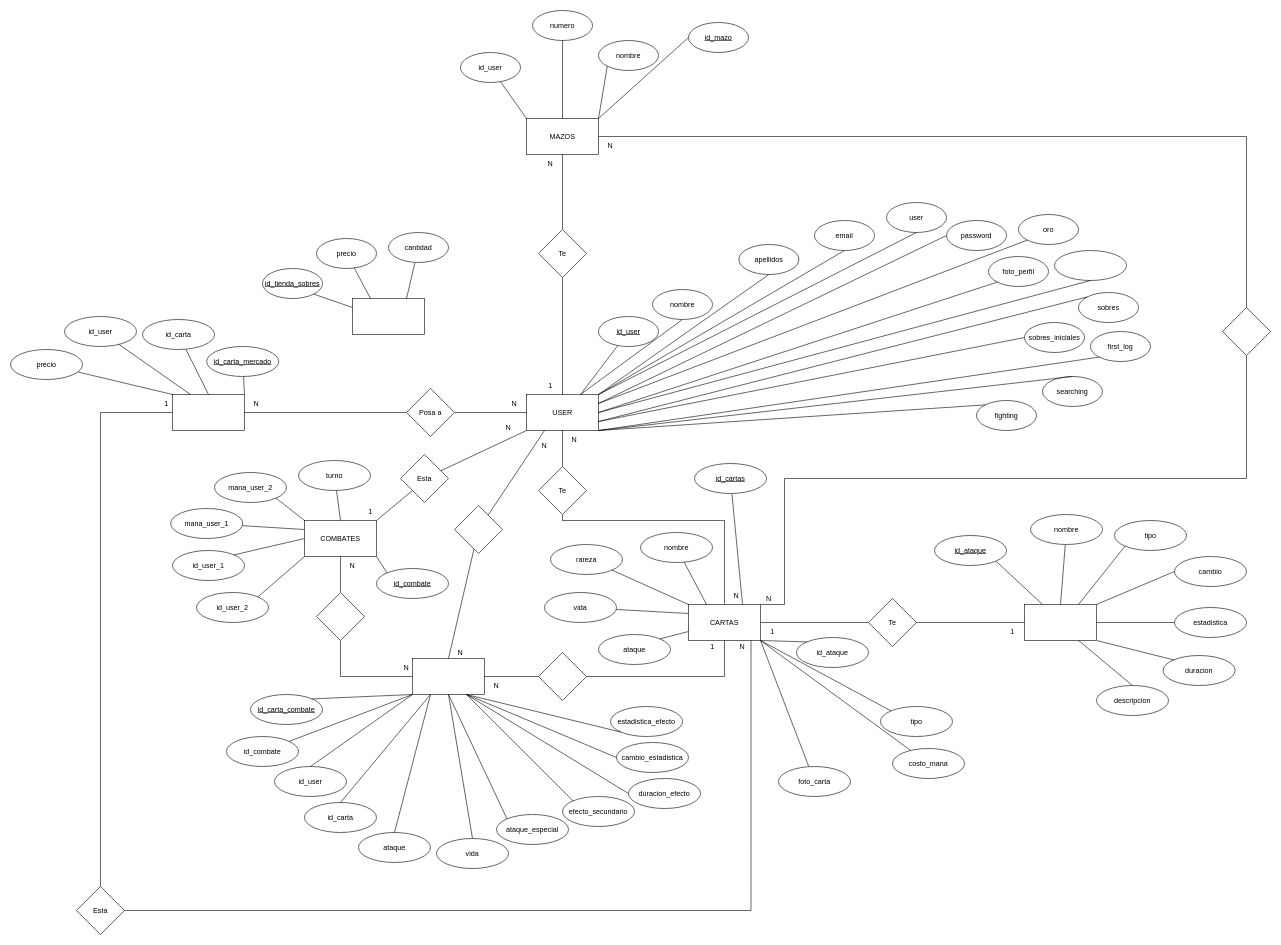
Image size: 1281x945. Some labels were removed from this diagram. The centre of each missing label's shape, as x and y in pixels:
ATAQUES: (x=1060, y=622)
CARTAS_COMBATES: (x=448, y=676)
Estan: (x=1246, y=331)
Hi ha: (x=340, y=616)
Informacio: (x=562, y=676)
Jugar: (x=478, y=529)
mazo_seleccionado: (x=1090, y=265)
MERCADO_CARTAS: (x=208, y=412)
TIENDA_SOBRES: (x=388, y=316)
